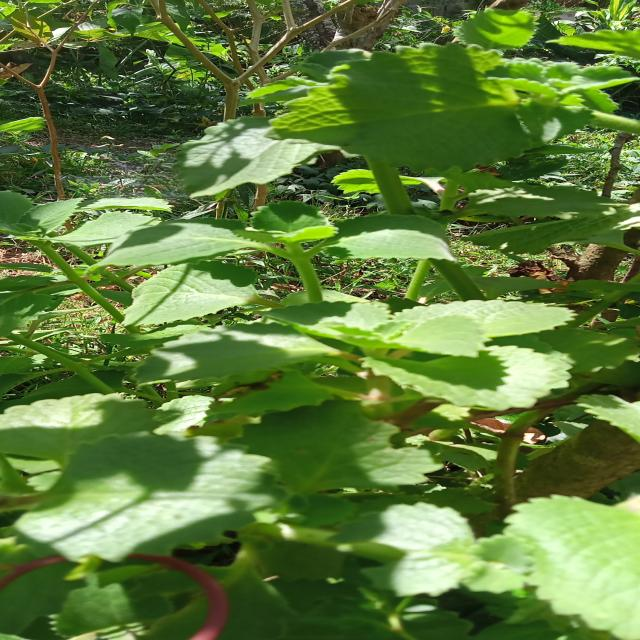Oregano: (80, 264, 629, 433), (230, 272, 602, 420), (80, 177, 476, 297)
